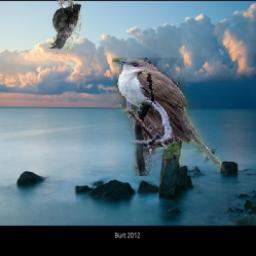Crow: (48, 0, 81, 51)
Cuckoo: (112, 59, 227, 177)
